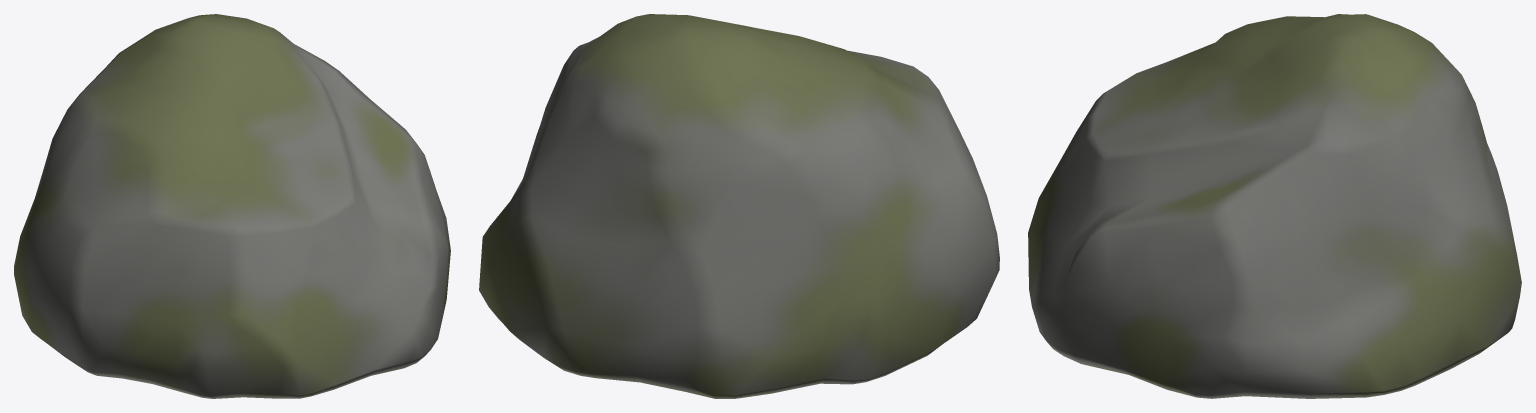
Rendered from map_rock_a_tripo.glb.
3 renders of one model, left to right at view 1: azimuth 30°, elevation 25°; view 2: azimuth 150°, elevation 25°; view 3: azimuth 270°, elevation 25°, orthographic. The views are drawn at different scales.
Parts seen in each view (by area): view 1: tripo_node_32fb35cc-994d-4f7a-936e-56150cd7c4b8; view 2: tripo_node_32fb35cc-994d-4f7a-936e-56150cd7c4b8; view 3: tripo_node_32fb35cc-994d-4f7a-936e-56150cd7c4b8.
Part boxes in pixels (left/top/right/bottom): tripo_node_32fb35cc-994d-4f7a-936e-56150cd7c4b8: left=14, top=14, right=450, bottom=398; tripo_node_32fb35cc-994d-4f7a-936e-56150cd7c4b8: left=479, top=14, right=999, bottom=398; tripo_node_32fb35cc-994d-4f7a-936e-56150cd7c4b8: left=1028, top=14, right=1521, bottom=398.
Bounding box in the file's own units: 0.998 × 0.6426 × 0.998.
Materials: 1 (1 with a texture image).
